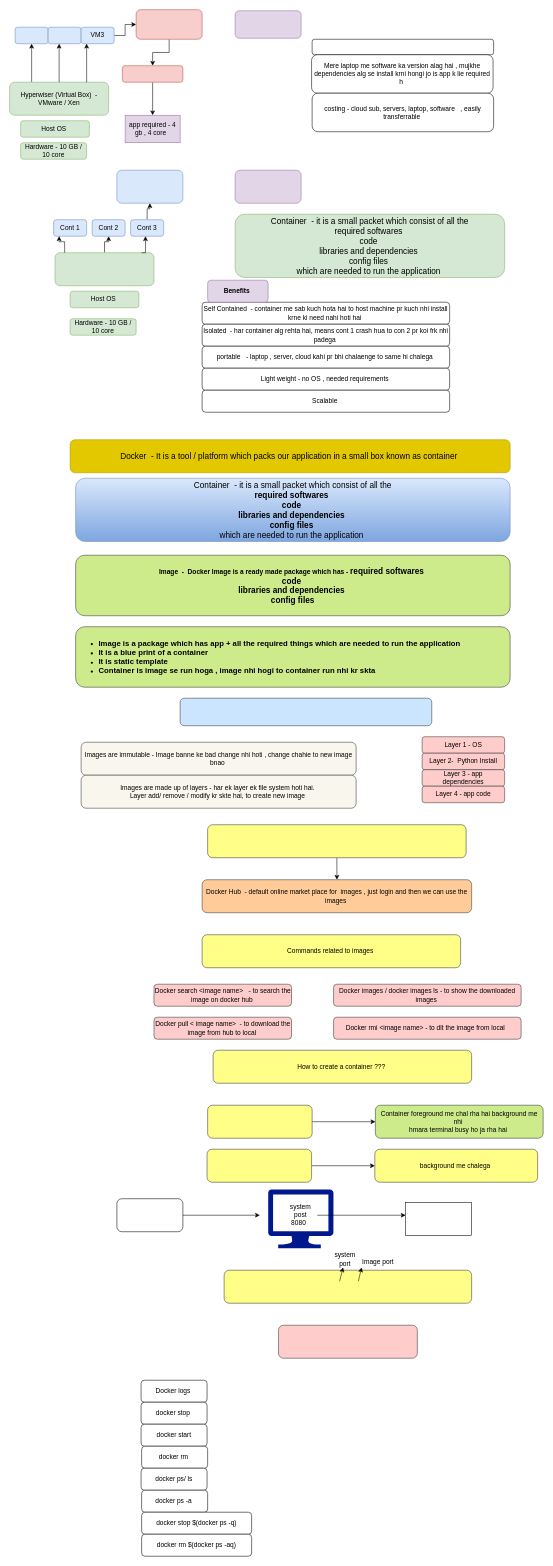
The diagram is 553 pixels wide and 1566 high, and some of its shapes have lost their labels. Each missing label, with the box of its shape:
Application: (116, 170, 183, 203)
Containerization: (235, 170, 301, 203)
Docker: (235, 10, 301, 38)
Docker Commands: (278, 1325, 417, 1358)
Docker container nginx - port 80: (405, 1202, 472, 1235)
Docker Engine: (54, 252, 154, 286)
docker run -d -p 8080: 80 < imagename >: (224, 1270, 472, 1303)
docker run -d < imagename >: (207, 1149, 312, 1182)
docker run < imagename >: (207, 1105, 312, 1138)
every VM has own OS - so will have booting time: (312, 39, 494, 55)
From where will we get images ?: (207, 824, 466, 858)
Https: localhoar:8080: (116, 1198, 183, 1232)
Image = Read only ( CD) Container - CD se chalne vala computer: (180, 698, 432, 726)
Middle ware - NGINX: (122, 65, 183, 82)
OS memroy - 4 gb 4 core: (136, 9, 202, 39)
VM1: (15, 27, 48, 44)
VM2: (48, 27, 81, 44)
